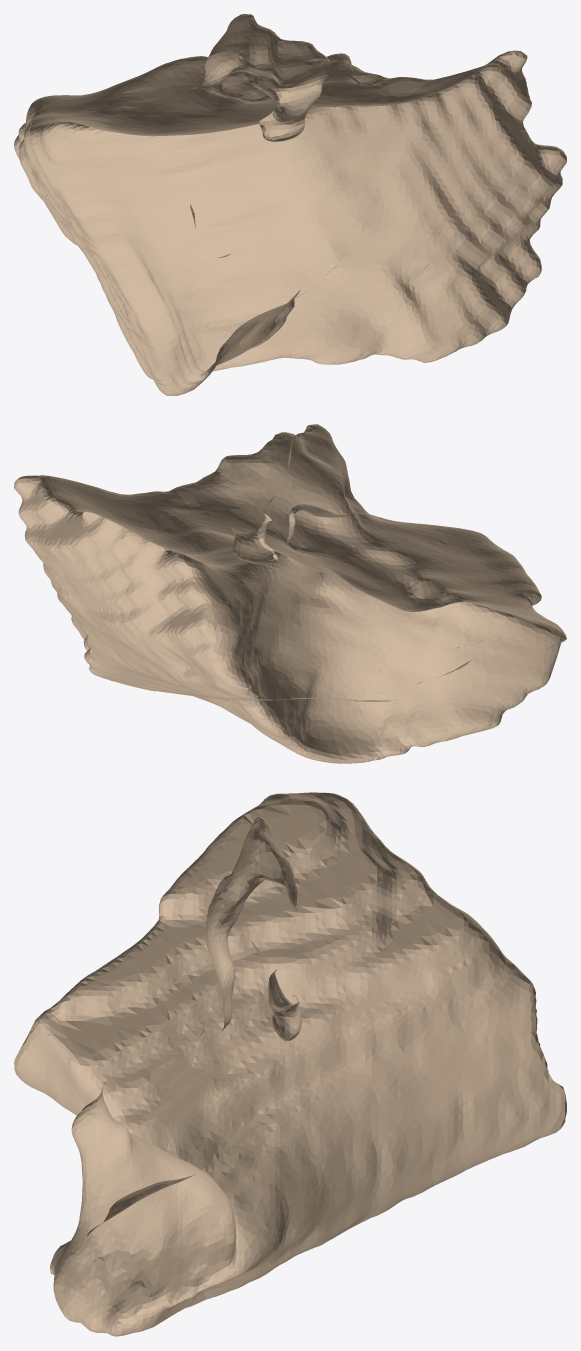
The model's file is fatpad.glb.
3 views of the same model, one above another, from view 1: azimuth 30°, elevation 25°; view 2: azimuth 150°, elevation 25°; view 3: azimuth 270°, elevation 25° (orthographic). The views are drawn at different scales.
Parts seen in each view (by area): view 1: geometry_0; view 2: geometry_0; view 3: geometry_0.
Boxes of the visible parts, x1,y1,x2,y2 form: geometry_0: [14, 14, 566, 395]; geometry_0: [14, 424, 566, 763]; geometry_0: [14, 792, 566, 1336].
Size of the model in its own units: 65.84 by 44.86 by 50.88.
